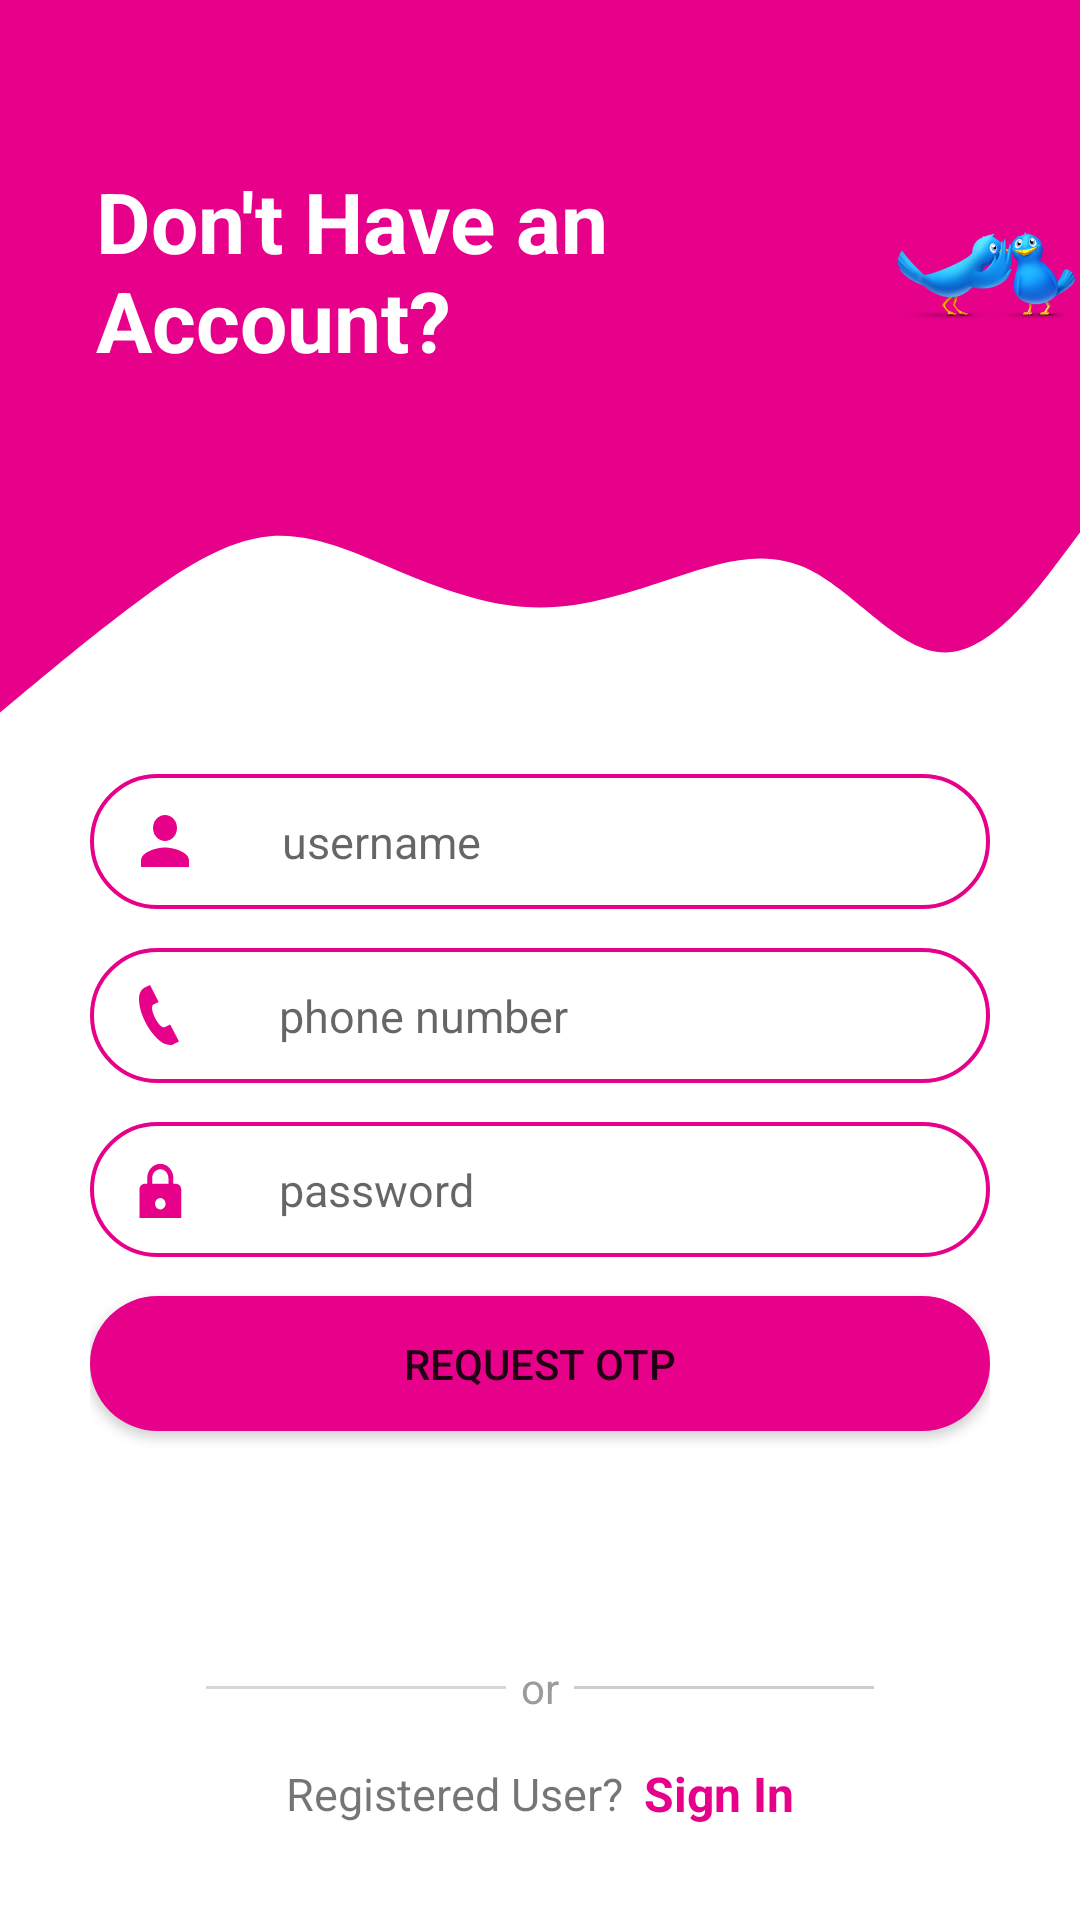

Screen size 1080 x 1920. Icon name, then its center in pixels as [x,y]:
birds: [986,274]
